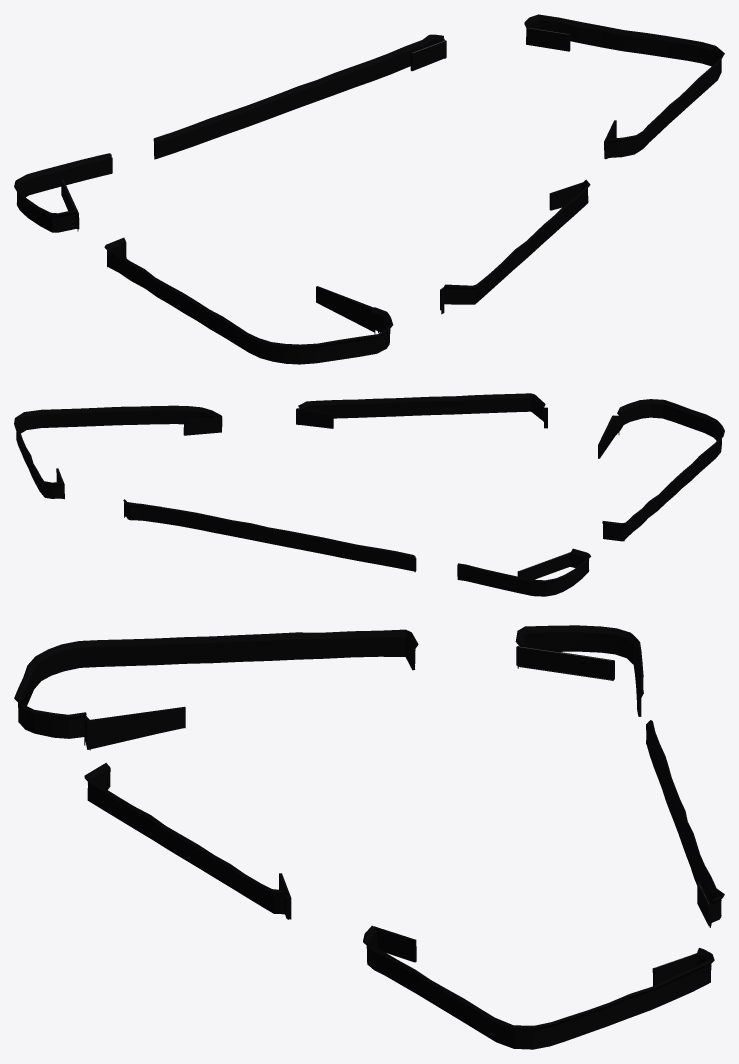
File: s_fencing_logistics.dae
3 views of the same model, one above another, from view 1: azimuth 30°, elevation 25°; view 2: azimuth 150°, elevation 25°; view 3: azimuth 270°, elevation 25° (orthographic). The views are drawn at different scales.
Visible parts, largest first — view 1: Colmesh-1, fencing_logistics_a1000; view 2: Colmesh-1, fencing_logistics_a1000; view 3: Colmesh-1, fencing_logistics_a1000.
Part boxes in pixels (left/top/right/bottom): Colmesh-1: left=14, top=14, right=724, bottom=364; fencing_logistics_a1000: left=16, top=28, right=721, bottom=363; Colmesh-1: left=14, top=393, right=724, bottom=596; fencing_logistics_a1000: left=17, top=405, right=721, bottom=595; Colmesh-1: left=14, top=625, right=724, bottom=1049; fencing_logistics_a1000: left=18, top=646, right=721, bottom=1047.
Bounding box in the file's own units: 102 × 75.84 × 5.4.
